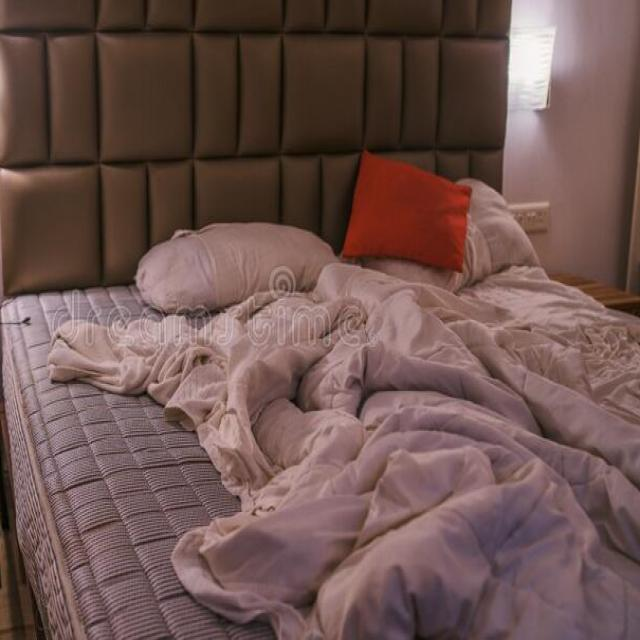bed: (7, 141, 640, 640)
